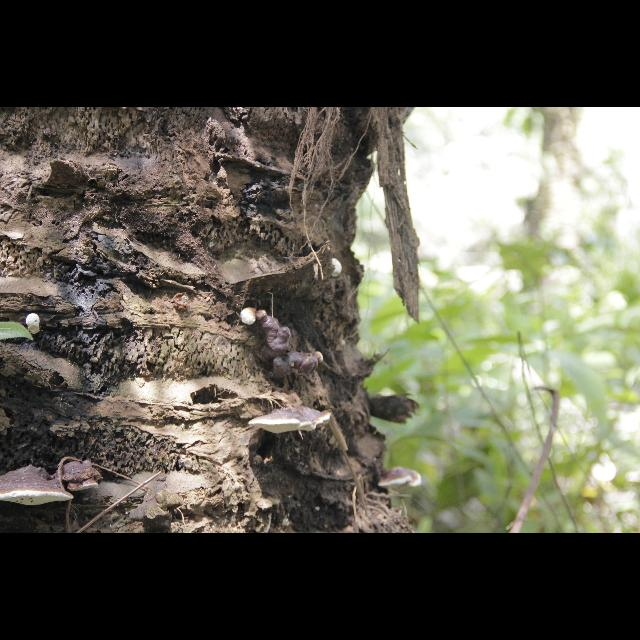ganoderma: (258, 310, 316, 383), (1, 466, 75, 508), (249, 406, 333, 436), (56, 462, 104, 493), (378, 467, 424, 493)
primordium: (26, 314, 42, 336), (242, 308, 259, 326), (333, 259, 344, 279), (316, 352, 324, 365)
